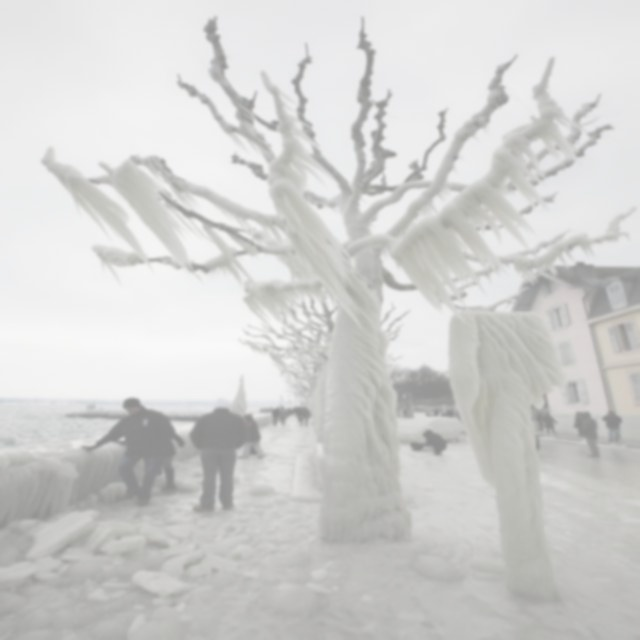pessoa: (79, 396, 181, 508), (189, 396, 251, 514), (152, 410, 186, 493), (236, 410, 266, 460), (577, 410, 601, 458), (408, 428, 448, 456), (598, 409, 624, 444), (540, 411, 558, 436), (298, 406, 311, 427), (424, 408, 454, 417), (571, 412, 581, 437), (277, 405, 288, 427), (533, 411, 543, 432), (270, 406, 280, 426), (286, 406, 298, 420), (533, 433, 541, 451), (401, 408, 408, 418), (250, 446, 256, 457)
